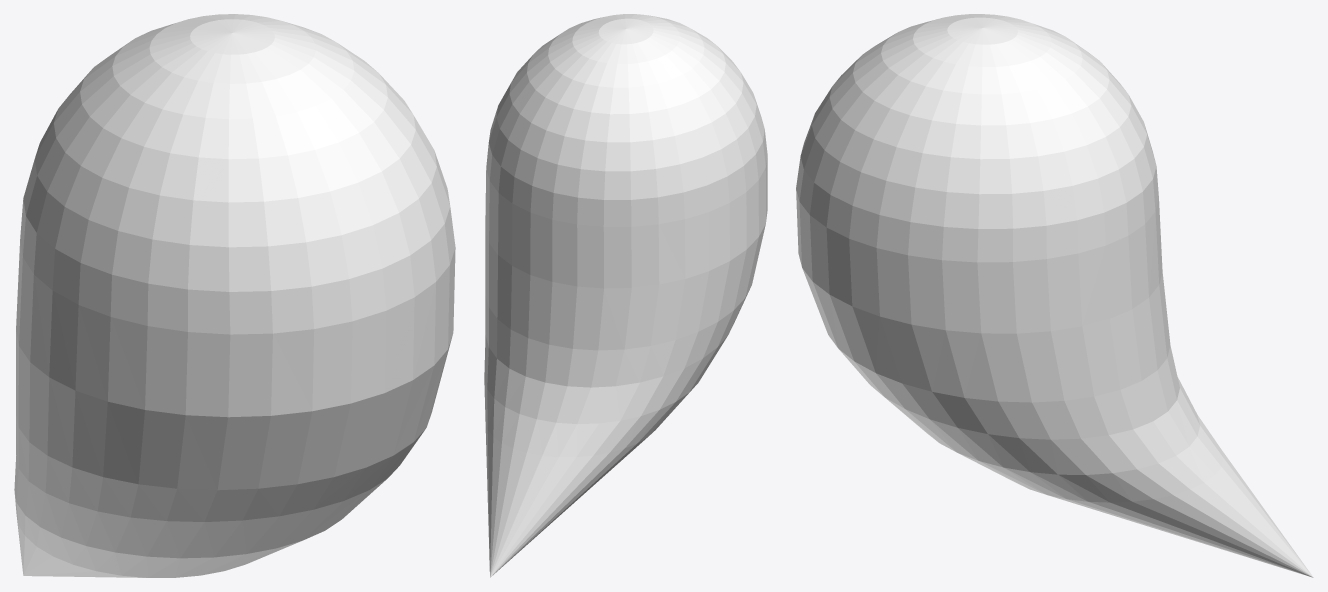
The model's file is ghost.obj.
3 renders of one model, left to right at view 1: azimuth 30°, elevation 25°; view 2: azimuth 150°, elevation 25°; view 3: azimuth 270°, elevation 25°, orthographic. The views are drawn at different scales.
Parts seen in each view (by area): view 1: 球; view 2: 球; view 3: 球.
Boxes of the visible parts, x1,y1,x2,y2 form: 球: (14, 14, 455, 577); 球: (484, 14, 767, 577); 球: (796, 14, 1313, 577).
Size of the model in its own units: 0.875 by 1.57 by 1.34.
Materials: 1 (1 with a texture image).
